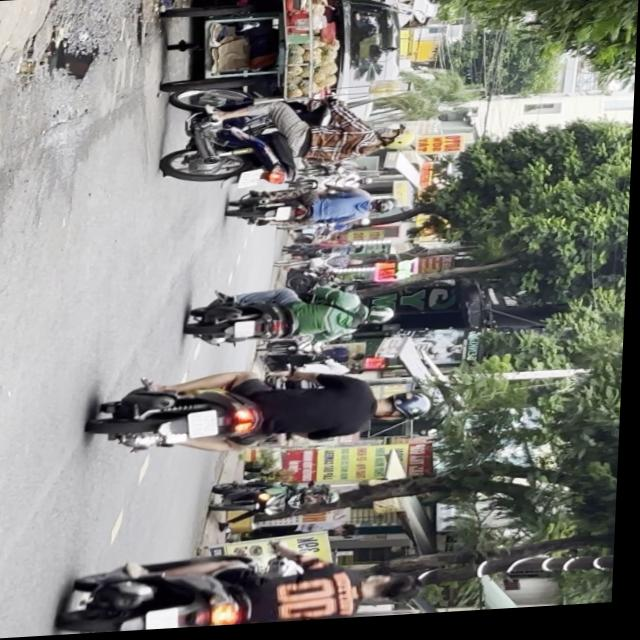helmet: (380, 394, 437, 428), (378, 128, 421, 155), (369, 309, 400, 329)
licenseplate: (93, 362, 442, 464), (63, 545, 427, 636), (159, 90, 427, 193), (189, 285, 403, 357)
motorcyclist: (361, 577, 424, 610)
nohelmet: (191, 411, 224, 440), (153, 610, 185, 632), (241, 172, 266, 191), (238, 323, 259, 340)
